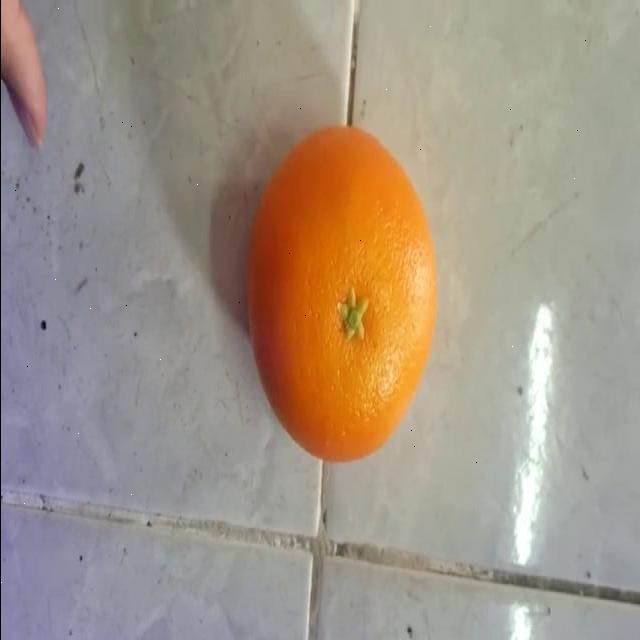Orange: (245, 124, 439, 463)
